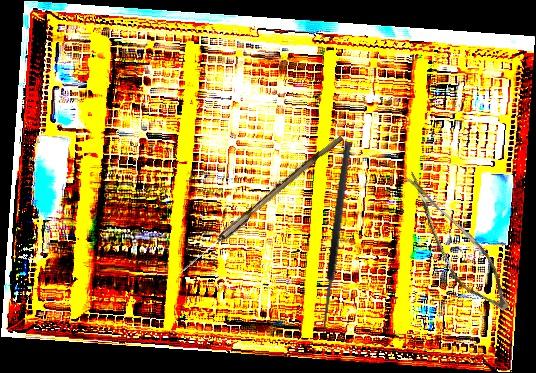Hook Surgical: (318, 141, 362, 338)
Micro Scissor: (376, 169, 531, 319)
Surgical Spoon: (176, 131, 344, 279)
